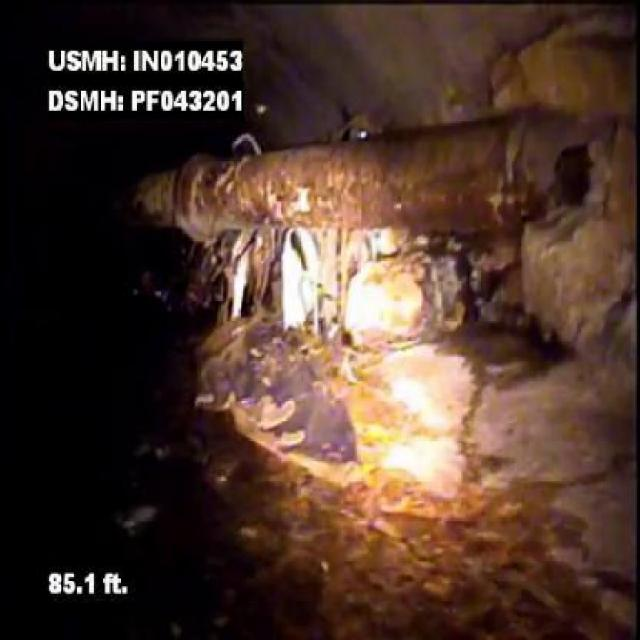Obstacle: (339, 249, 466, 360)
Utility intrusion: (114, 111, 583, 235)
